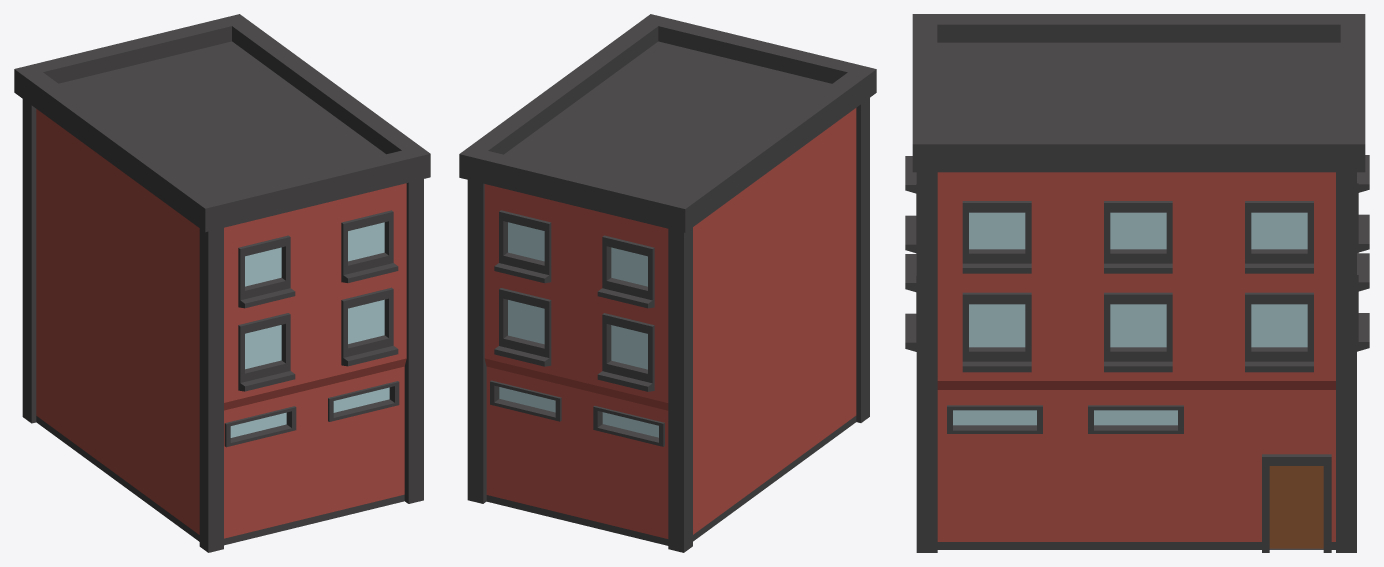
The model's file is house_wide_short002.fbx.
The picture shows the model from 3 angles, left to right: view 1: azimuth 30°, elevation 25°; view 2: azimuth 150°, elevation 25°; view 3: azimuth 270°, elevation 25°; orthographic projection. The views are drawn at different scales.
Visible parts, largest first — view 1: Base.119; view 2: Base.119; view 3: Base.119.
Part boxes in pixels (box(x1,y1,x2,y2)): Base.119: box(14, 14, 430, 552); Base.119: box(459, 14, 876, 552); Base.119: box(905, 14, 1369, 552).
Size of the model in its own units: 895 by 1285 by 1315.
